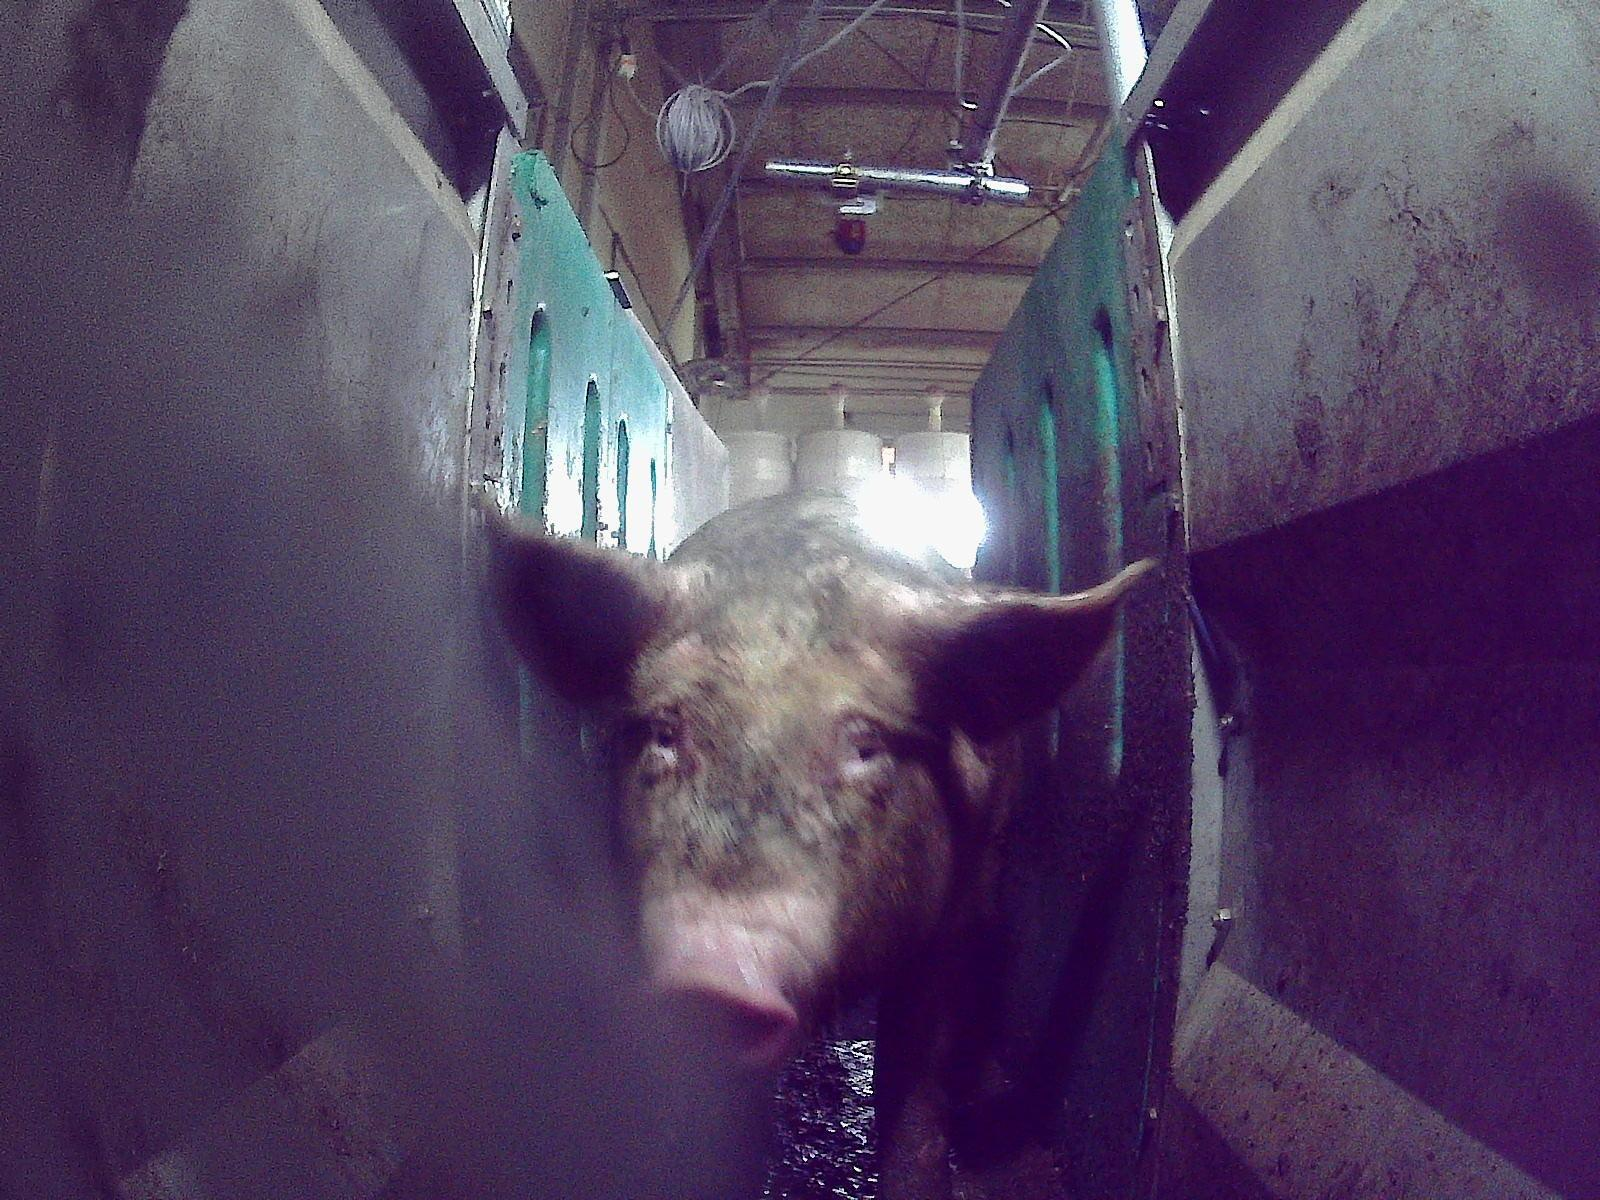Face: (613, 603, 990, 1070)
